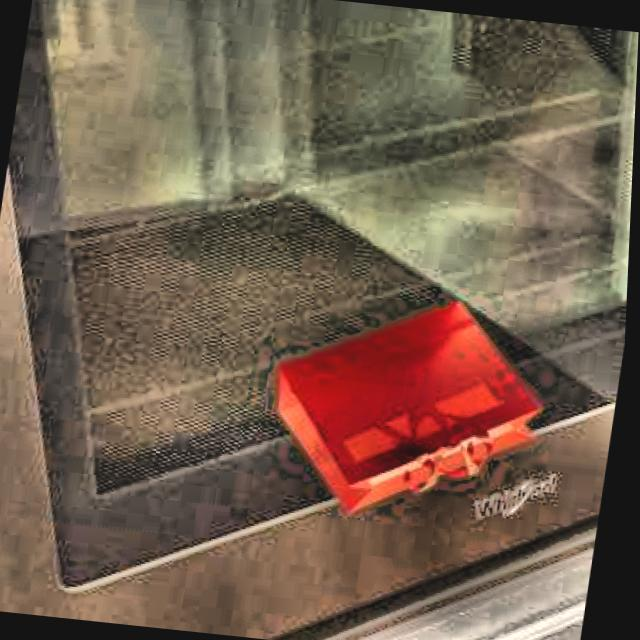Paper-bag: (253, 271, 572, 544)
